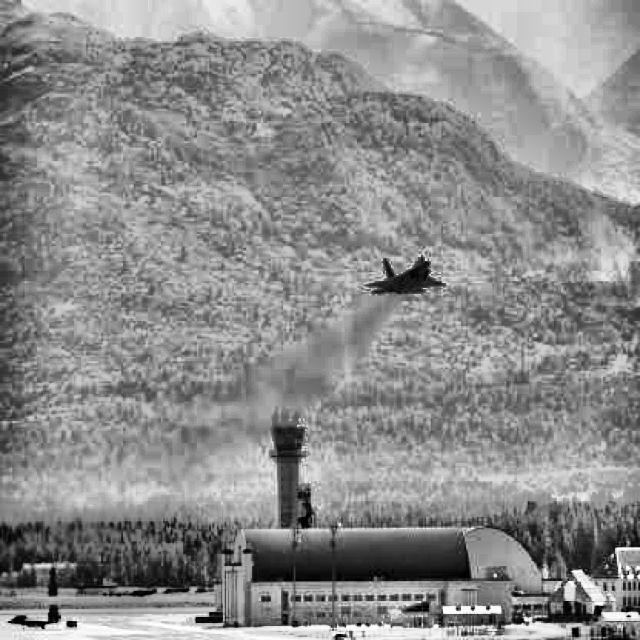F22: (364, 254, 448, 294), (5, 604, 64, 630)
